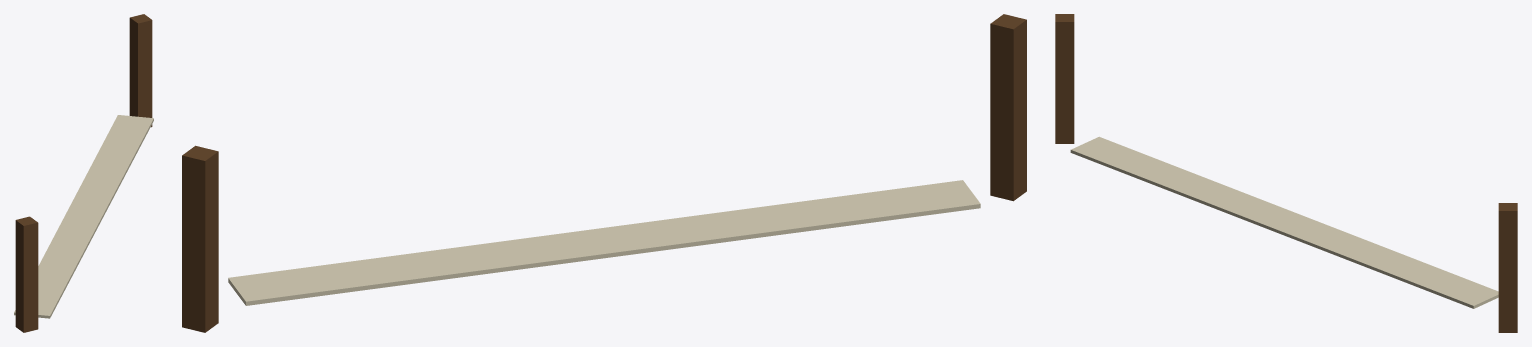
Rendered from start_marker.gltf.
The picture shows the model from 3 angles, left to right: view 1: azimuth 30°, elevation 25°; view 2: azimuth 150°, elevation 25°; view 3: azimuth 270°, elevation 25°; orthographic projection. The views are drawn at different scales.
Parts seen in each view (by area): view 1: StartLineAsset, StartPostLeftAsset, StartPostRightAsset; view 2: StartLineAsset, StartPostLeftAsset, StartPostRightAsset; view 3: StartLineAsset, StartPostLeftAsset, StartPostRightAsset.
Part boxes in pixels (x1,y1,x2,y2): StartLineAsset: [14, 115, 153, 318]; StartPostLeftAsset: [15, 216, 38, 332]; StartPostRightAsset: [129, 14, 152, 127]; StartLineAsset: [228, 180, 980, 305]; StartPostLeftAsset: [990, 14, 1026, 201]; StartPostRightAsset: [182, 145, 218, 332]; StartLineAsset: [1070, 136, 1498, 308]; StartPostLeftAsset: [1055, 14, 1074, 143]; StartPostRightAsset: [1498, 203, 1517, 332].
Bounding box in the file's own units: 10.12 × 3.65 × 10.99.
